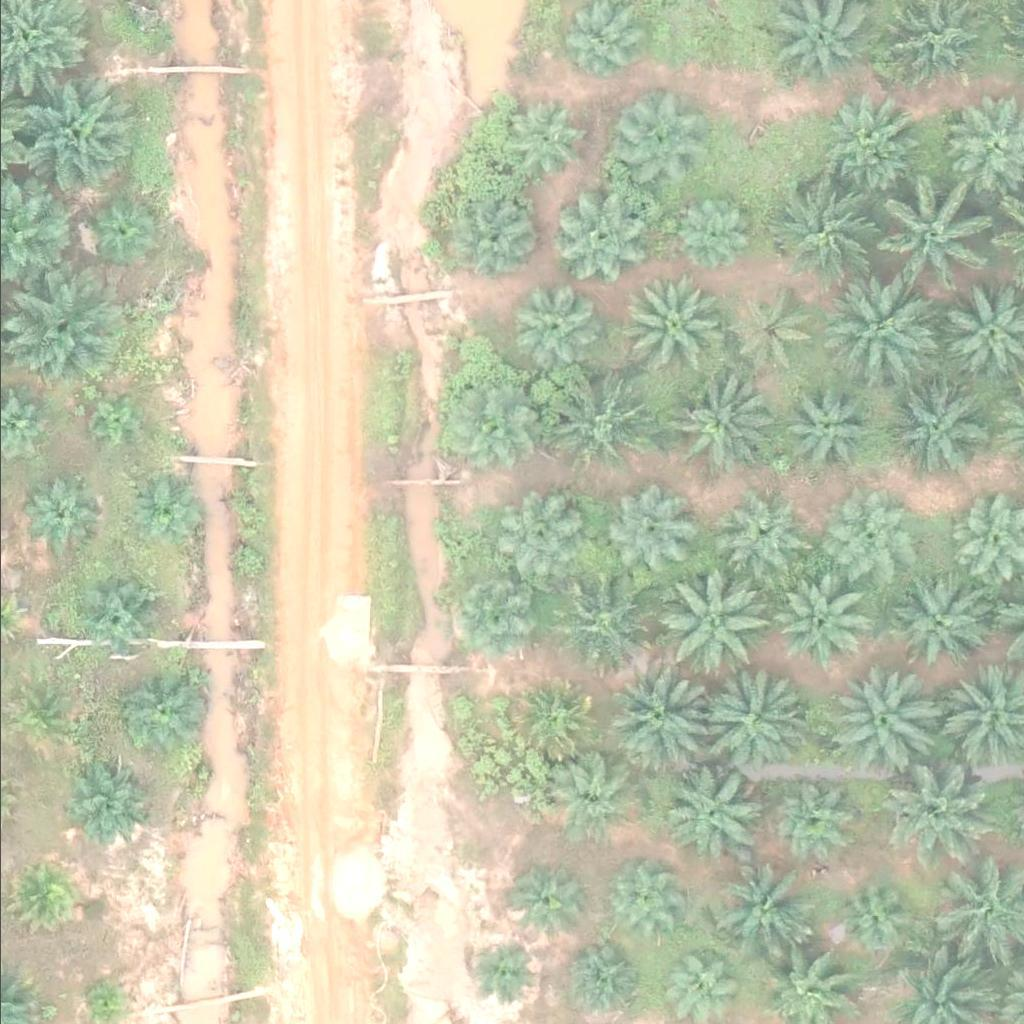Kelapa_Sawit: (828, 658, 942, 771), (2, 268, 115, 381), (602, 663, 715, 776), (698, 655, 811, 768), (655, 563, 769, 675), (17, 81, 130, 193), (888, 755, 1001, 867), (533, 363, 646, 475), (817, 276, 930, 388), (864, 179, 977, 291), (766, 174, 879, 286), (705, 852, 806, 952), (657, 762, 758, 862), (889, 568, 990, 668), (552, 570, 653, 670), (659, 372, 760, 472), (619, 276, 720, 376), (602, 87, 703, 187), (823, 89, 924, 189), (433, 381, 533, 481), (553, 185, 653, 285), (884, 379, 985, 478), (73, 568, 161, 656), (507, 670, 595, 758), (829, 873, 917, 961), (769, 580, 857, 668), (601, 482, 689, 570), (457, 196, 545, 284), (493, 493, 582, 580), (725, 291, 814, 378), (117, 669, 205, 756), (760, 778, 848, 865), (540, 755, 628, 842), (448, 571, 536, 658), (723, 483, 811, 570), (835, 492, 923, 579), (784, 386, 872, 473), (663, 190, 751, 277), (504, 288, 592, 375), (503, 96, 591, 183), (61, 765, 137, 840), (19, 474, 95, 549), (655, 944, 731, 1019), (567, 946, 643, 1021), (601, 864, 676, 939), (501, 862, 576, 937), (135, 476, 198, 539), (87, 198, 150, 261), (14, 865, 77, 928), (472, 935, 535, 998), (8, 688, 71, 750), (88, 399, 138, 449), (85, 981, 123, 1018)
